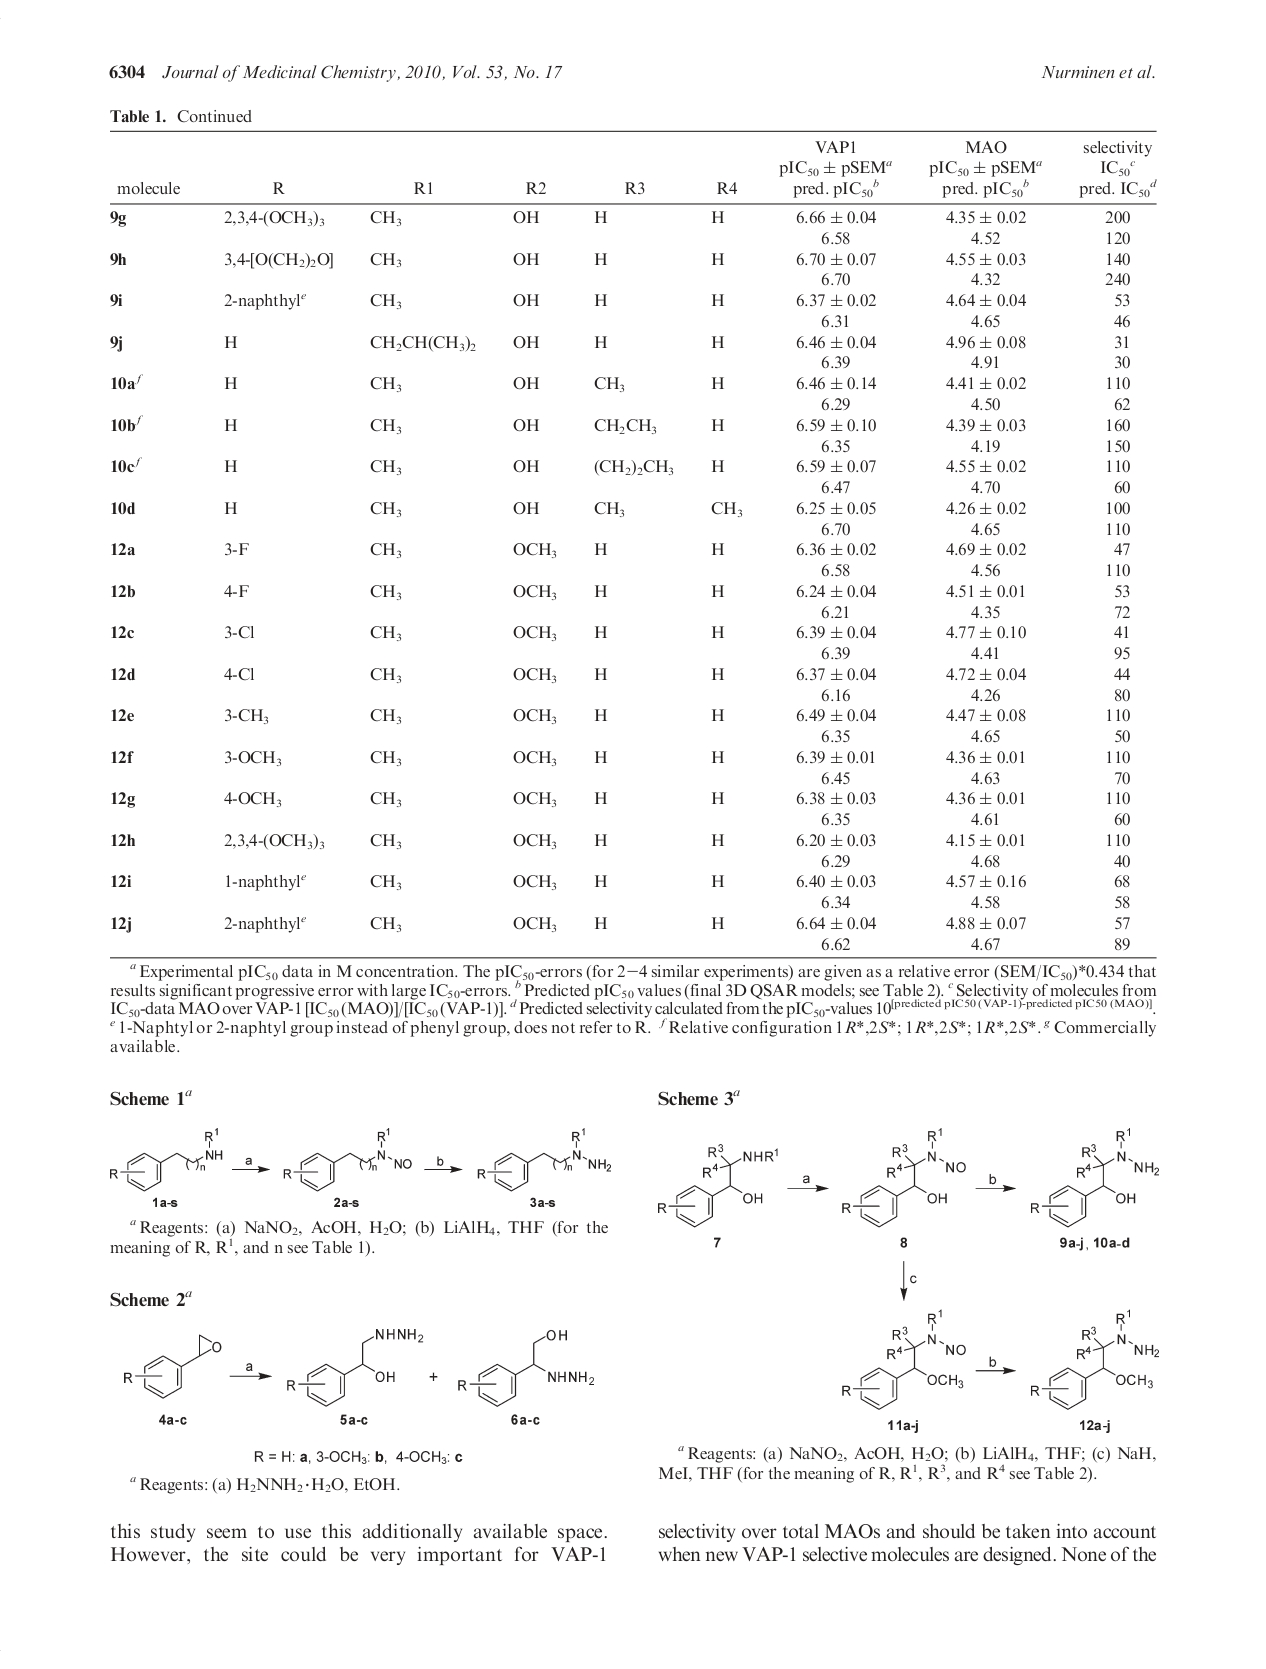exist_molecular: (1028, 1125, 1160, 1231), (839, 1307, 969, 1414), (455, 1325, 594, 1418), (1037, 1309, 1161, 1411), (848, 1122, 965, 1223), (285, 1327, 426, 1407), (654, 1142, 779, 1227), (473, 1125, 616, 1192), (283, 1126, 414, 1194), (106, 1126, 225, 1194), (122, 1333, 223, 1402)
